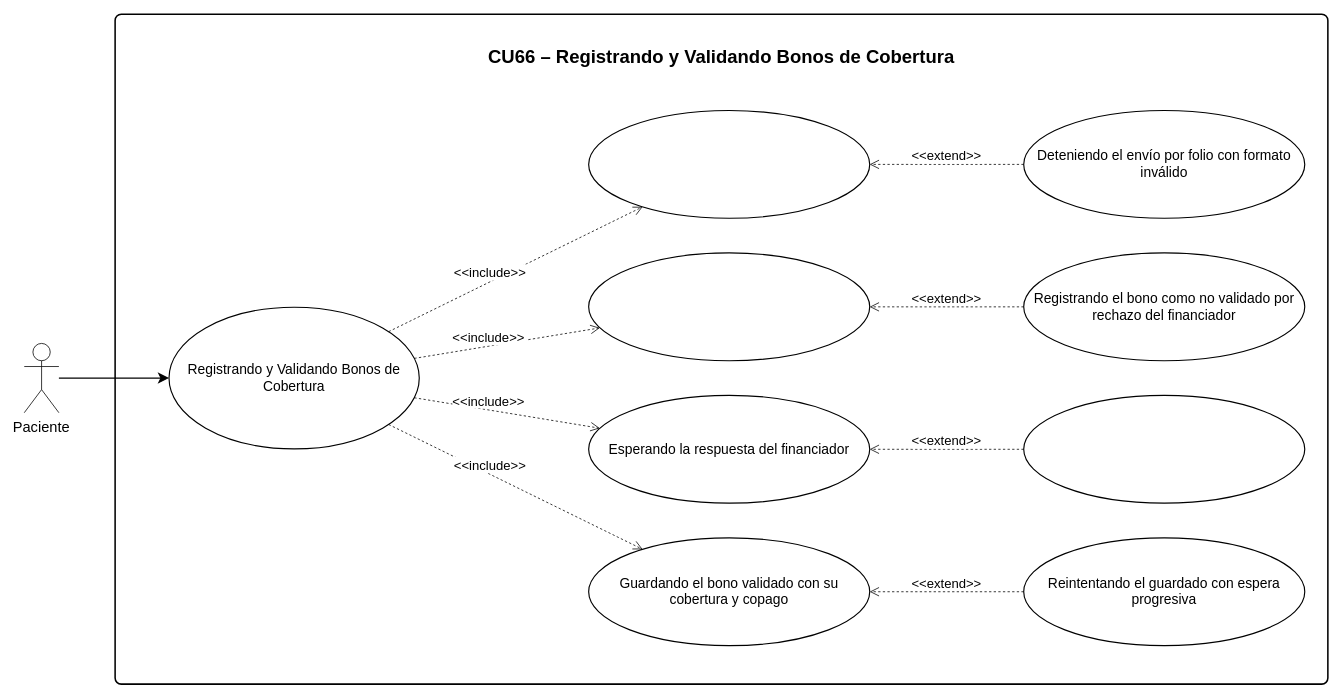
This 1342x698 diagram has some shape labels left out. The shapes that lost their labels are listed below. From the top down, each one's centre as x and y in pixels, then its label:
point (729, 164): Seleccionando el financiador e ingresando el folio del bono
point (729, 306): Validando el formato y consultando al financiador
point (1164, 448): Informando bono no registrado y sugiriendo el ingreso por contingencia
